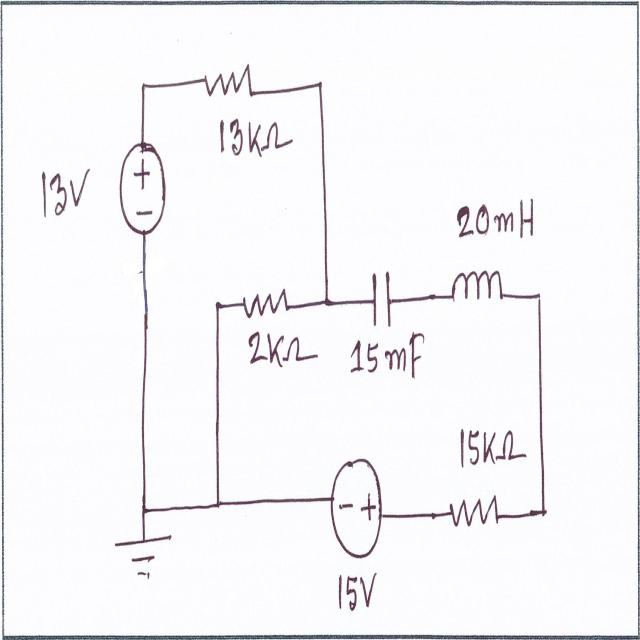capacitor: (368, 264, 396, 334)
ground: (114, 522, 175, 582)
inductor: (445, 261, 511, 321)
resistor: (198, 49, 258, 112), (445, 491, 503, 544), (235, 290, 294, 328)
voltage_source: (112, 132, 174, 248), (328, 458, 389, 561)
